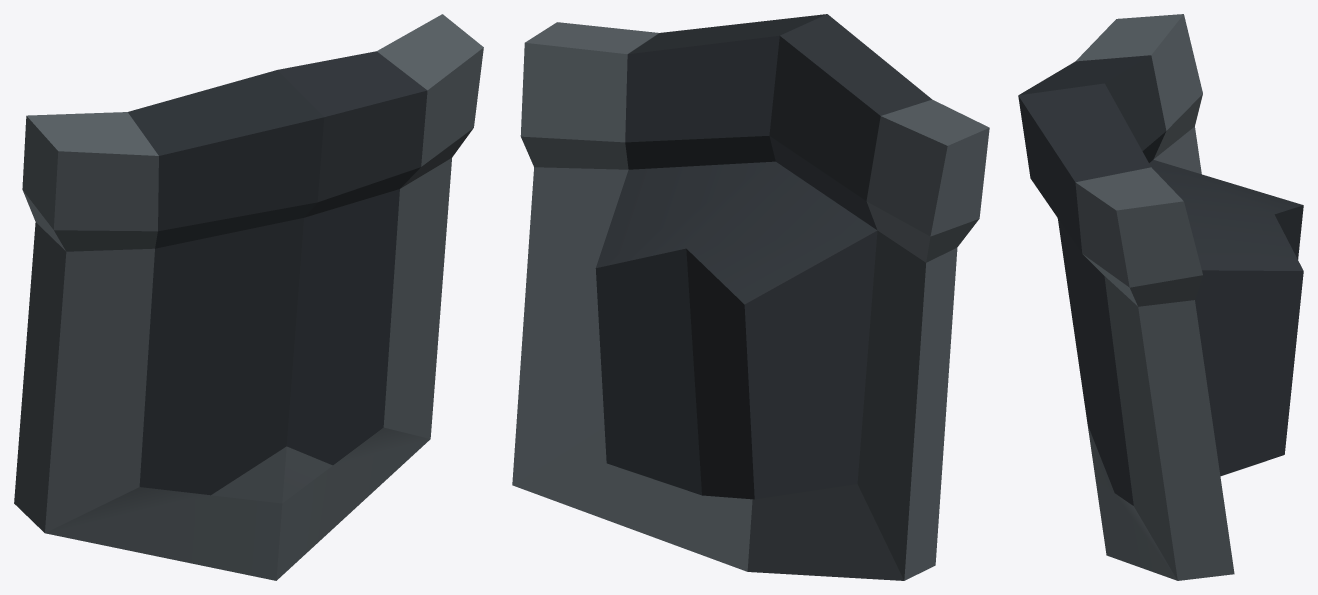
Rendered from Chr_KneeAttachRight_11_Static.fbx.
3 views of the same model, side by side, from view 1: azimuth 30°, elevation 25°; view 2: azimuth 150°, elevation 25°; view 3: azimuth 270°, elevation 25° (orthographic). The views are drawn at different scales.
Visible parts, largest first — view 1: Chr_KneeAttachRight_11_Static; view 2: Chr_KneeAttachRight_11_Static; view 3: Chr_KneeAttachRight_11_Static.
Part boxes in pixels (x1=…): Chr_KneeAttachRight_11_Static: x1=14, y1=14, x2=483, y2=580; Chr_KneeAttachRight_11_Static: x1=512, y1=14, x2=989, y2=580; Chr_KneeAttachRight_11_Static: x1=1018, y1=14, x2=1303, y2=580.
Bounding box in the file's own units: 0.1091 × 0.1254 × 0.0688.
